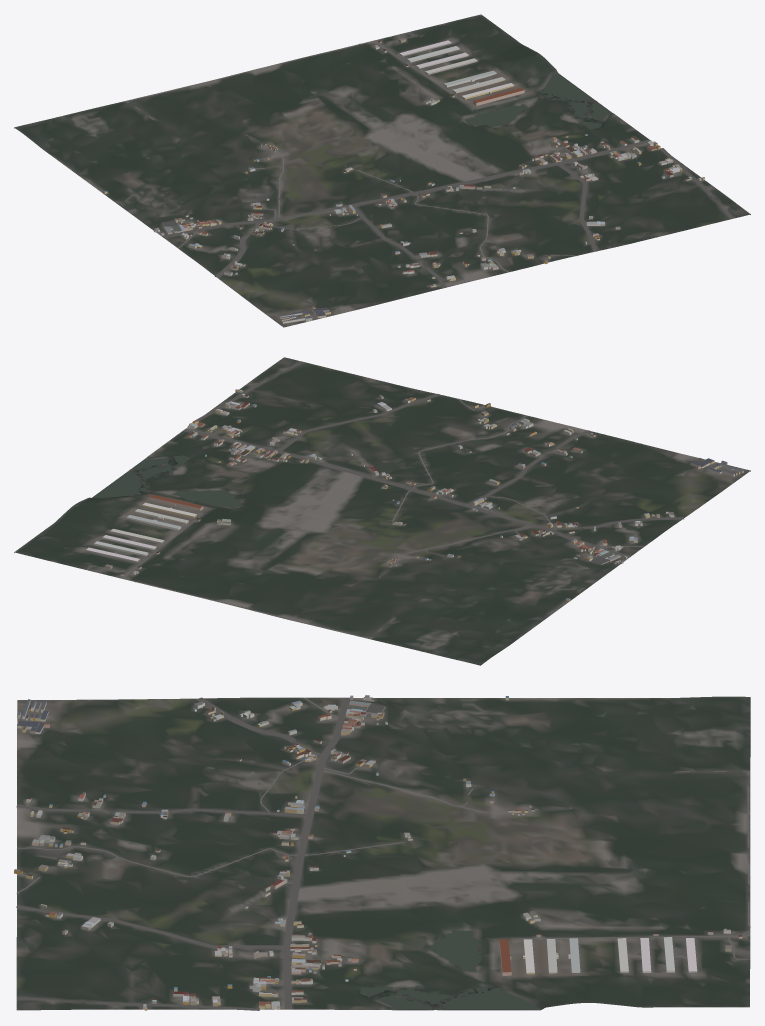
3 views of the same model, one above another, from view 1: azimuth 30°, elevation 25°; view 2: azimuth 150°, elevation 25°; view 3: azimuth 270°, elevation 25° (orthographic). The views are drawn at different scales.
Parts seen in each view (by area): view 1: ground, buildings, roads, water; view 2: ground, buildings, roads, water; view 3: ground, buildings, roads, water.
Boxes of the visible parts, x1,y1,x2,y2 form: ground: [14, 14, 750, 327]; buildings: [103, 38, 704, 323]; roads: [125, 32, 734, 287]; water: [465, 73, 610, 128]; ground: [14, 357, 750, 665]; buildings: [86, 389, 743, 601]; roads: [86, 361, 683, 638]; water: [92, 455, 241, 508]; ground: [16, 696, 750, 1010]; buildings: [14, 695, 742, 1010]; roads: [16, 697, 750, 1010]; water: [359, 930, 540, 1009].
Bounding box in the file's own units: 1408 × 21.97 × 1407.
